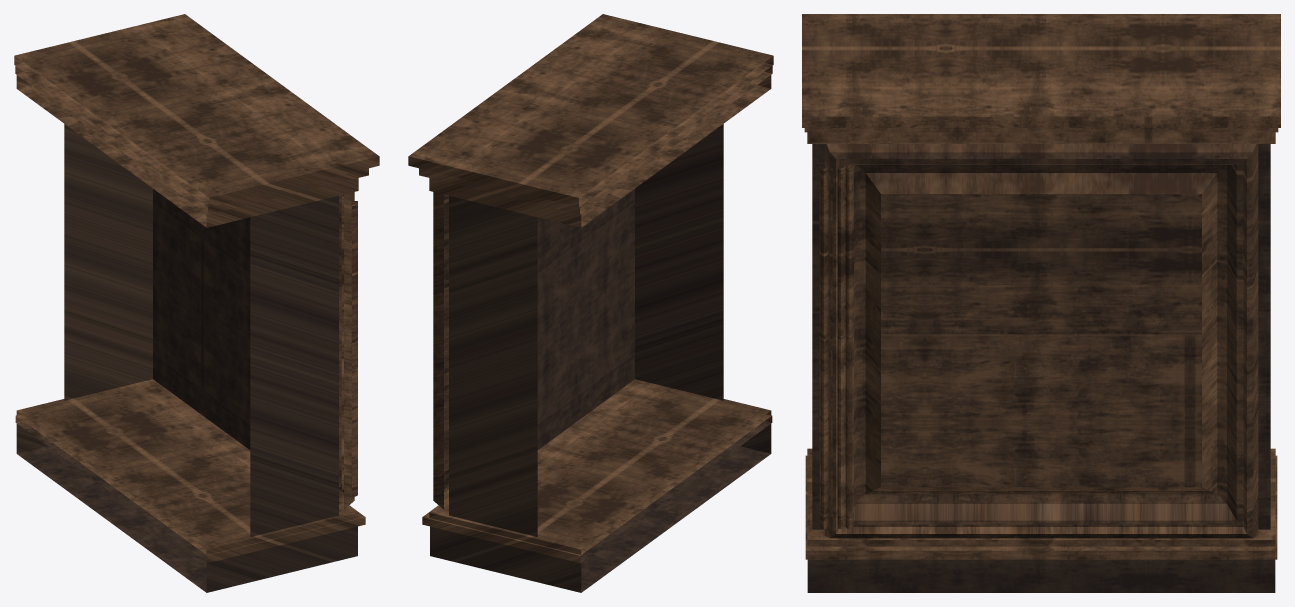
Rendered from oak_dado.glb.
The picture shows the model from 3 angles, left to right: view 1: azimuth 30°, elevation 25°; view 2: azimuth 150°, elevation 25°; view 3: azimuth 270°, elevation 25°; orthographic projection. The views are drawn at different scales.
Parts seen in each view (by area): view 1: oak_dado; view 2: oak_dado; view 3: oak_dado.
Boxes of the visible parts, x1,y1,x2,y2 form: oak_dado: (14,14,379,592); oak_dado: (408,14,773,592); oak_dado: (802,14,1280,592).
Bounding box in the file's own units: 0.635 × 1.41 × 1.25.
3 materials, 3 textured.
